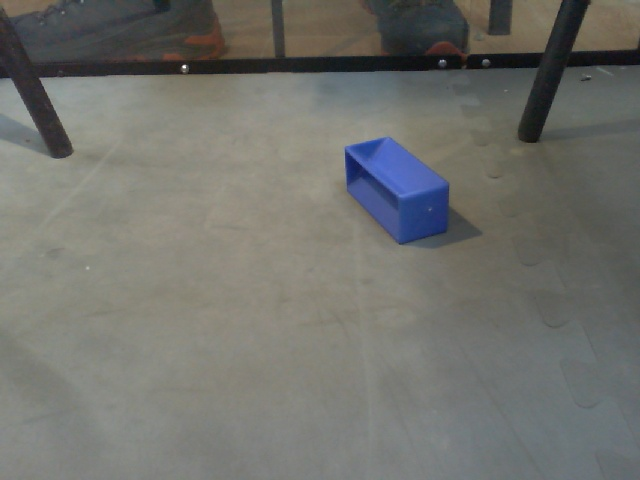BlueSample: (340, 133, 452, 247)
